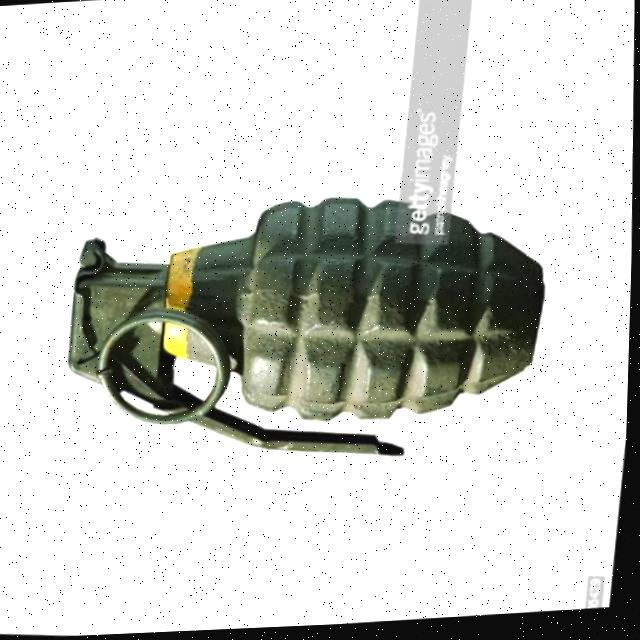grenade: (50, 153, 570, 496)
